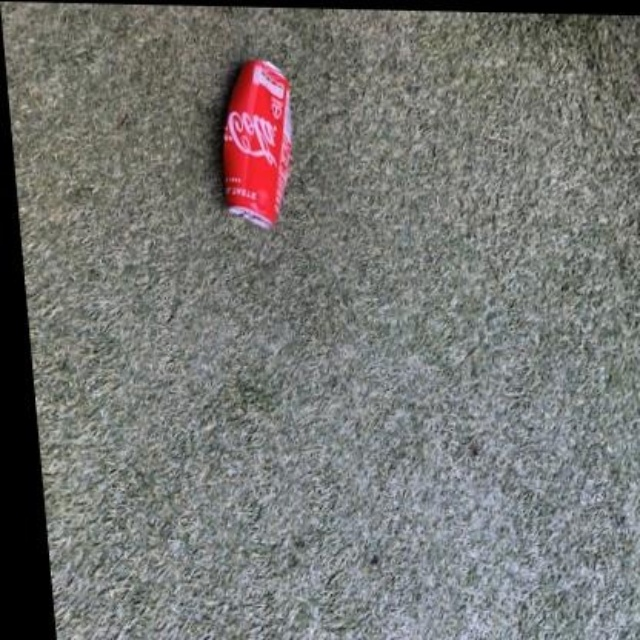trash: (223, 60, 291, 228)
